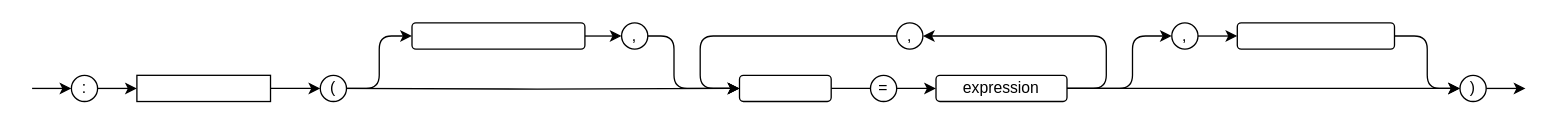
Some shapes in this 1559 by 124 pixel diagram are drawn without their labels. Each missing label, with the centre of its shape:
attribute expression: point 498,35
default expression: point 1315,35
regexp: point 784,88
switch: point 203,88
